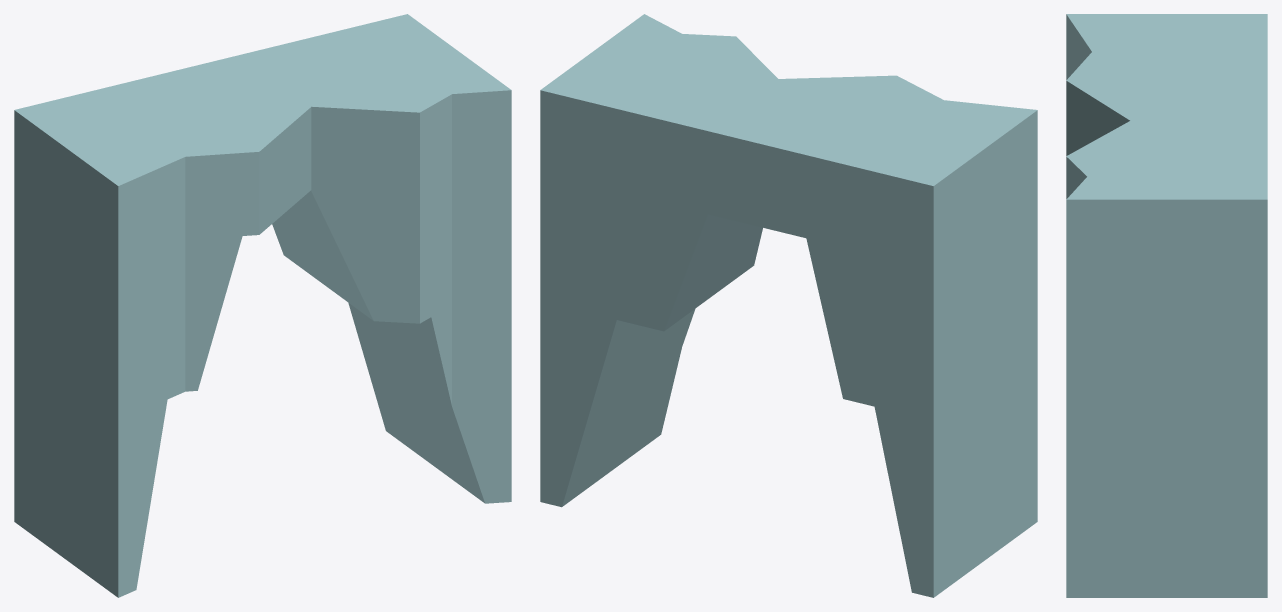
File: cliffGrey_entrance.fbx
3 views of the same model, side by side, from view 1: azimuth 30°, elevation 25°; view 2: azimuth 150°, elevation 25°; view 3: azimuth 270°, elevation 25° (orthographic). The views are drawn at different scales.
Visible parts, largest first — view 1: cliffGrey_entrance; view 2: cliffGrey_entrance; view 3: cliffGrey_entrance.
Part boxes in pixels (x1,y1,x2,y2): cliffGrey_entrance: [14, 14, 511, 597]; cliffGrey_entrance: [540, 14, 1037, 597]; cliffGrey_entrance: [1066, 14, 1267, 597].
Size of the model in its own units: 10 by 10 by 4.58.
